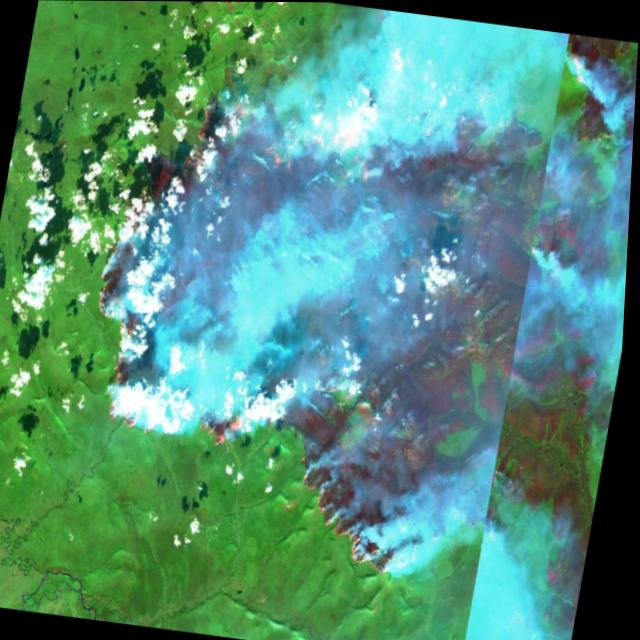fire: (51, 0, 640, 606)
